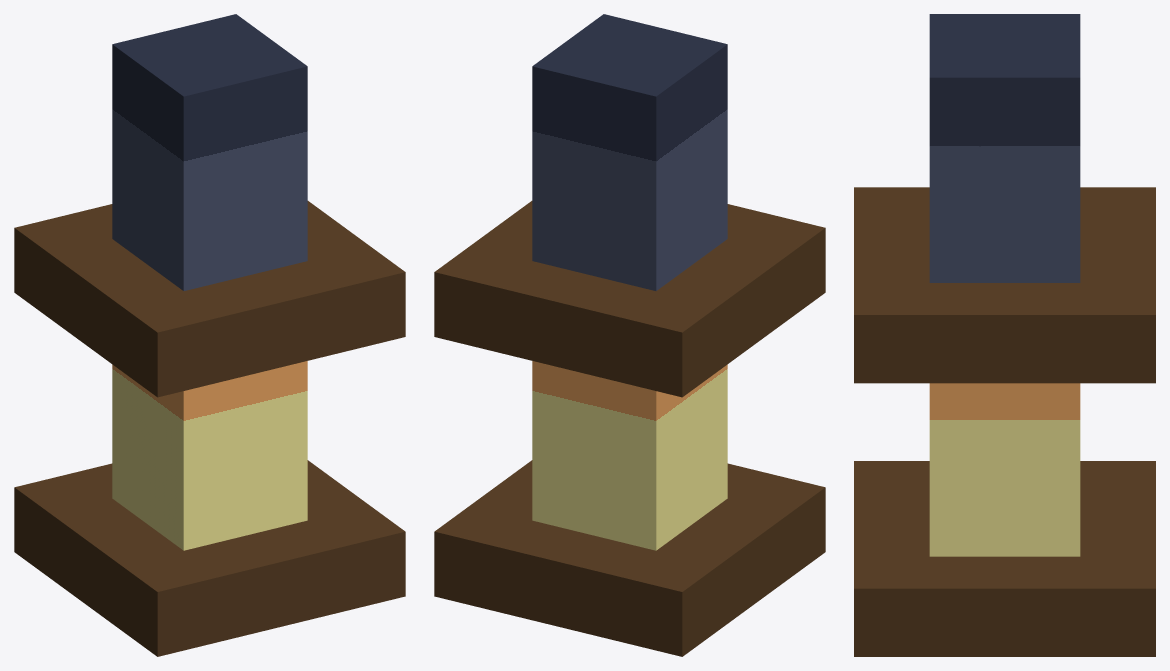
Rendered from Lantern.dae.
3 renders of one model, left to right at view 1: azimuth 30°, elevation 25°; view 2: azimuth 150°, elevation 25°; view 3: azimuth 270°, elevation 25°, orthographic. The views are drawn at different scales.
Visible parts, largest first — view 1: Lantern; view 2: Lantern; view 3: Lantern.
Part boxes in pixels (bbox=[...]): Lantern: bbox=[14, 14, 405, 656]; Lantern: bbox=[434, 14, 825, 656]; Lantern: bbox=[854, 14, 1155, 656].
Bounding box in the file's own units: 4 × 8 × 4.
1 material, 1 textured.
